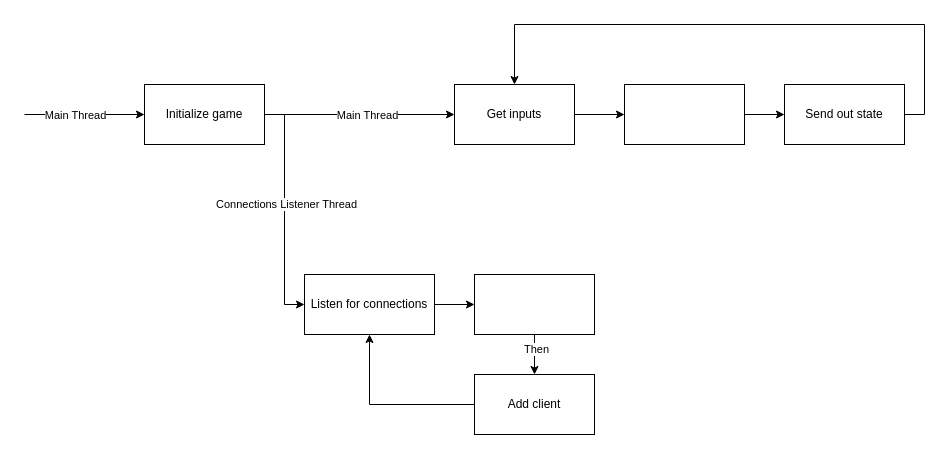
Some shapes in this 950 by 452 pixel diagram are drawn without their labels. The shapes that lost their labels are listed below. From the top down, each one's centre as x and y in pixels, then its label:
At [684,114]: "Update state".
At [534,304]: "If connect".
